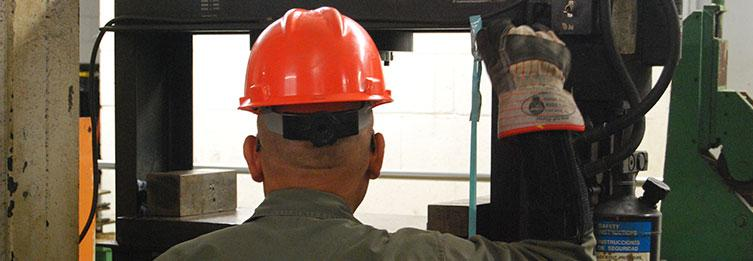helmet: (237, 6, 397, 110)
